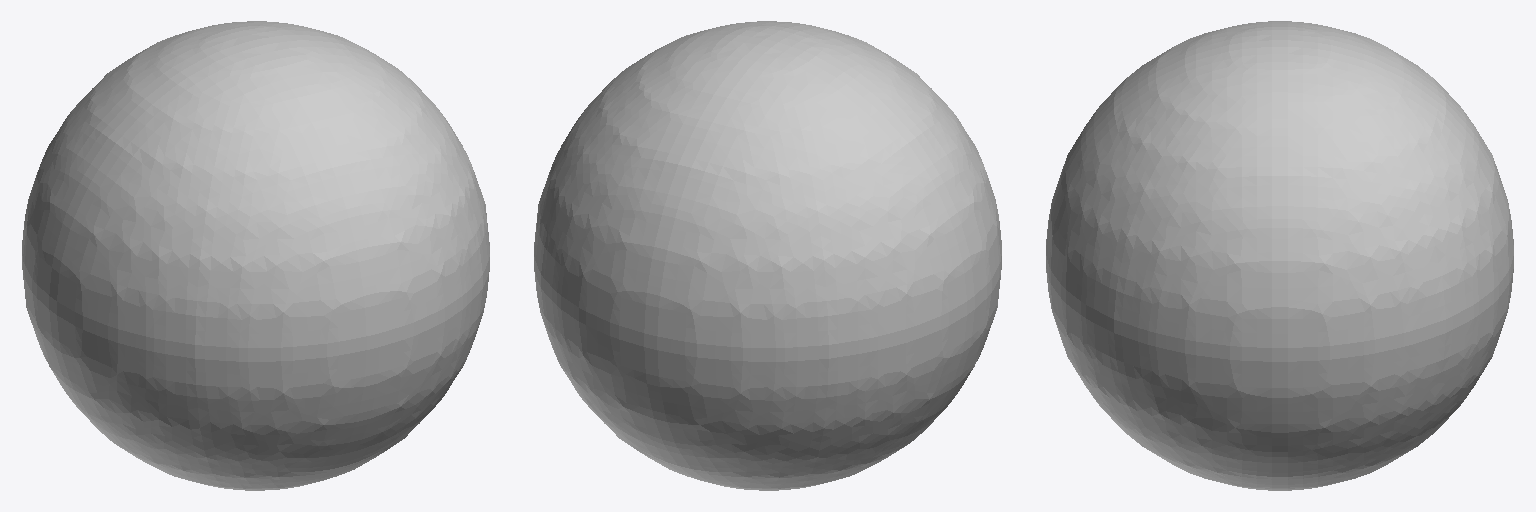
Rendered from skydome1.obj.
3 views of the same model, side by side, from view 1: azimuth 30°, elevation 25°; view 2: azimuth 150°, elevation 25°; view 3: azimuth 270°, elevation 25° (orthographic).
Visible parts, largest first — view 1: 球; view 2: 球; view 3: 球.
Part boxes in pixels (x1,y1,x2,y2): 球: (22, 21, 489, 490); 球: (534, 21, 1001, 490); 球: (1046, 21, 1513, 490).
Size of the model in its own units: 10822 by 10833 by 10822.